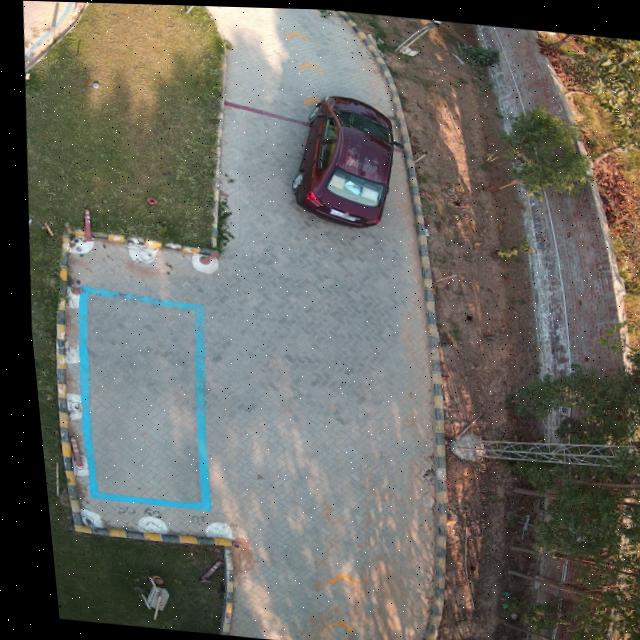car: (287, 93, 391, 227)
